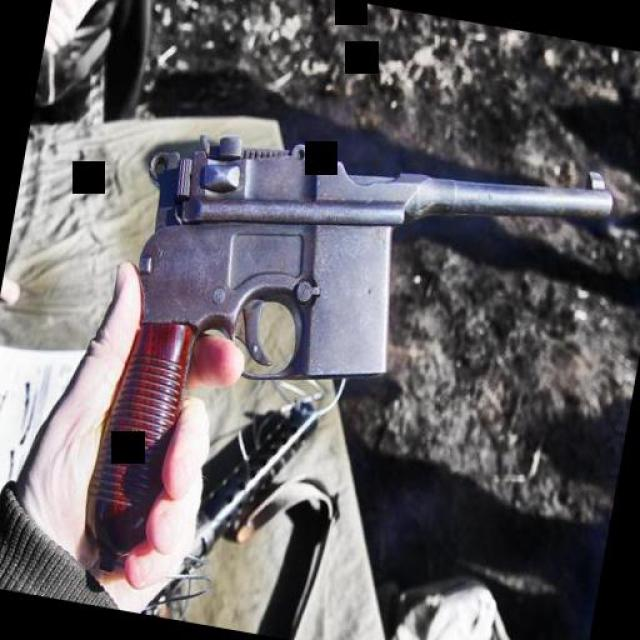gun: (58, 84, 618, 640)
